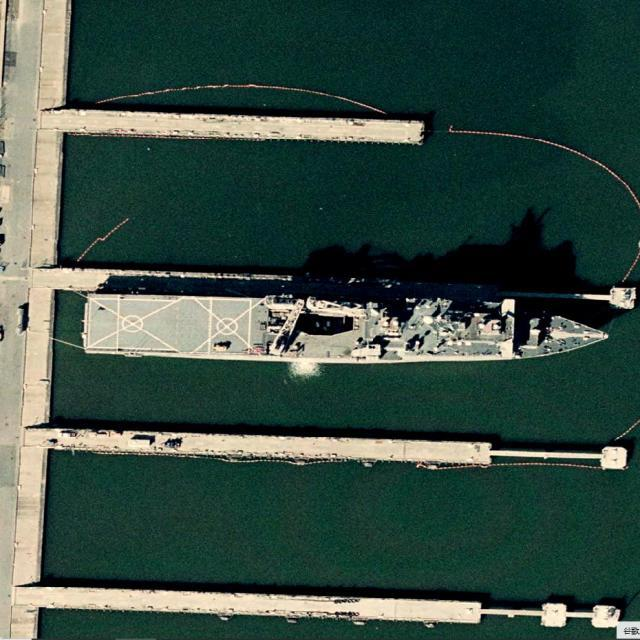Dock: (50, 427, 491, 468), (57, 267, 485, 306), (41, 586, 481, 623), (67, 109, 425, 144)
Landing: (74, 292, 610, 365)
